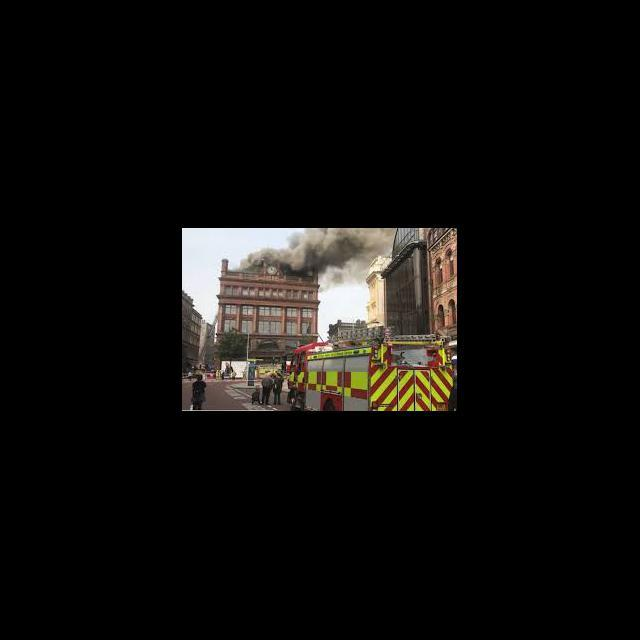Smoke: (247, 228, 397, 282)
